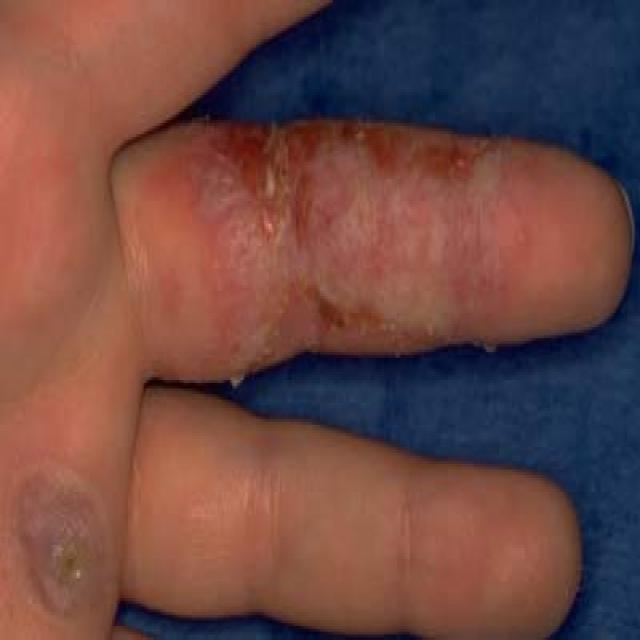eczema: (81, 0, 621, 535)
